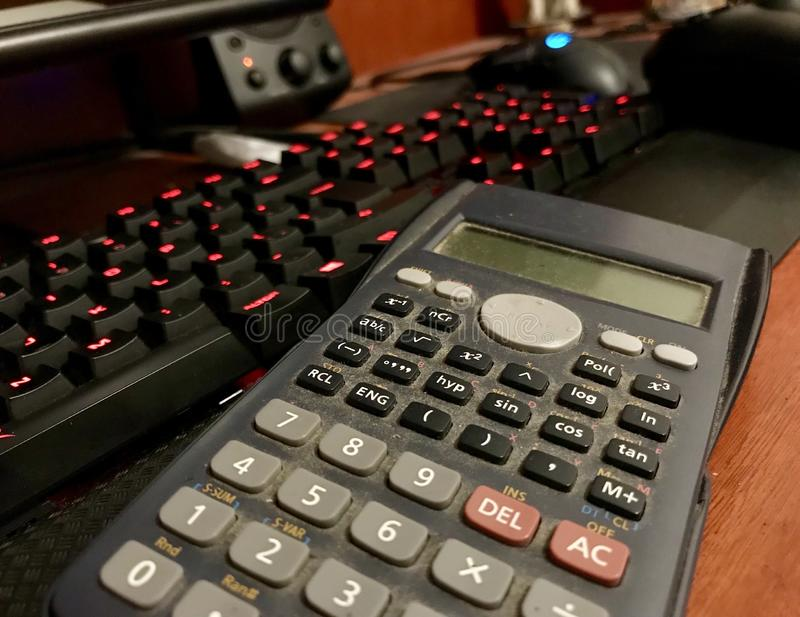Calculator: (45, 168, 775, 617)
